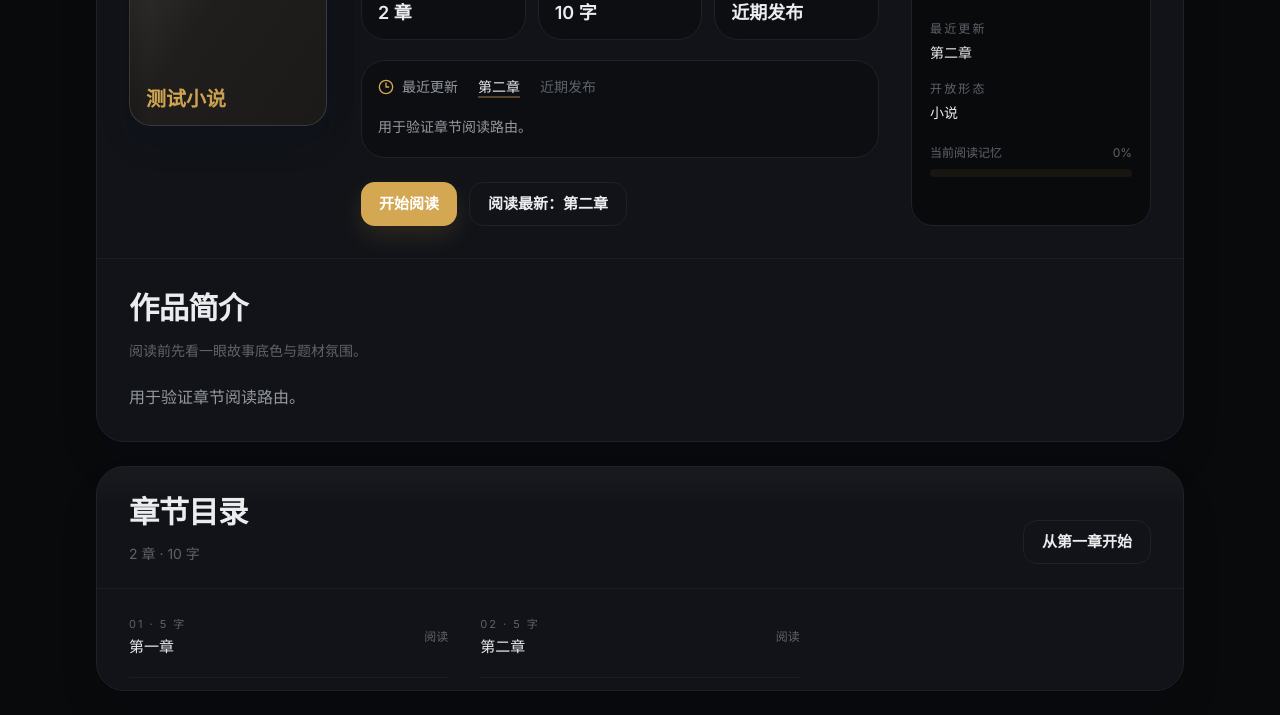
Scenario: SquarePage chapter reader › switches from a novel detail page to the selected chapter without another detail request
(page scrolled)
Expected: the heading "章节目录" is shown, [129,491,248,536]
Click the button "02 · 5 字 第二章 阅读" at (510, 624), box [480,597,800,677]
(page scrolled)
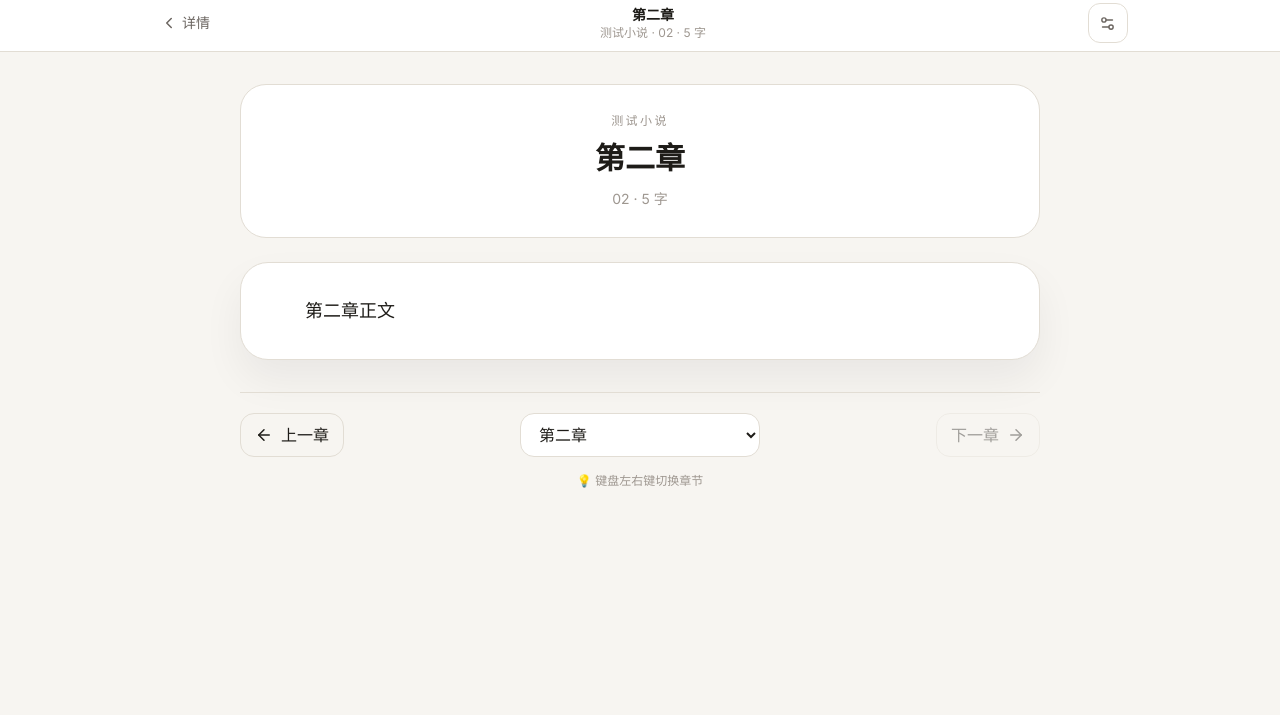
Expected: the text "第二章正文" is shown, [305,301,395,321]
